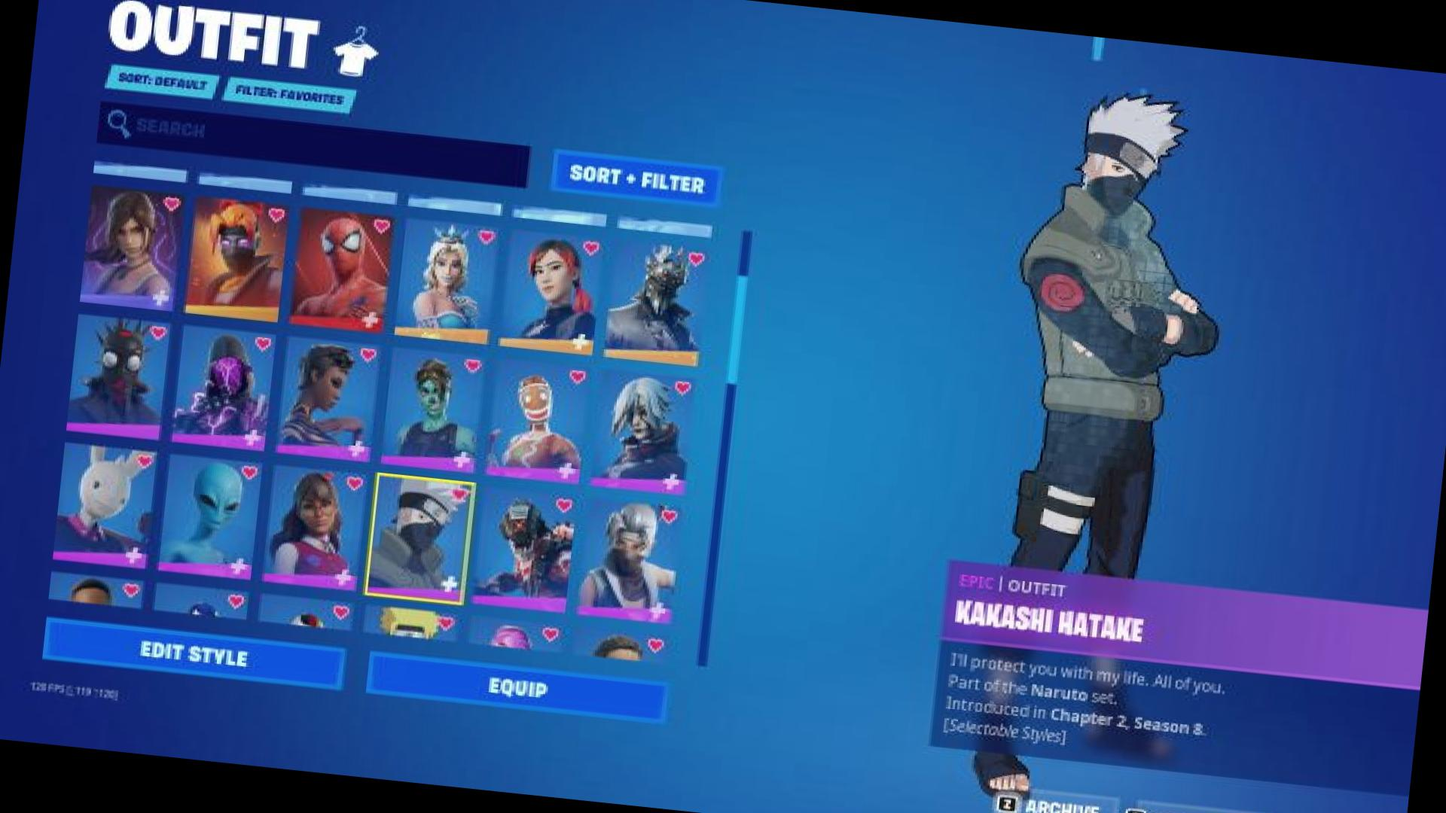player: (904, 71, 1313, 813)
